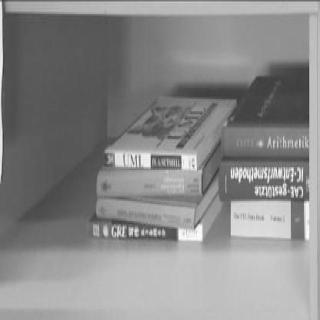book-spine: (218, 159, 310, 202), (96, 167, 204, 200), (95, 197, 197, 229), (230, 200, 310, 238), (221, 124, 310, 158), (88, 221, 204, 240), (103, 152, 198, 169)
